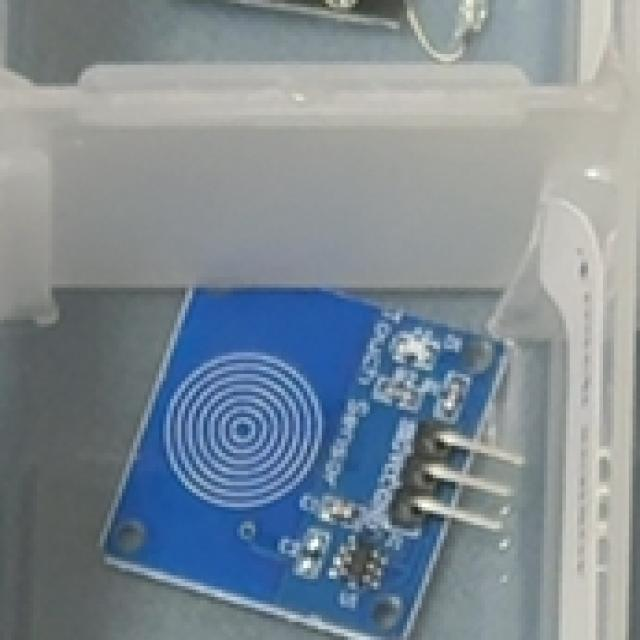Touch Sensor: (97, 257, 520, 635)
